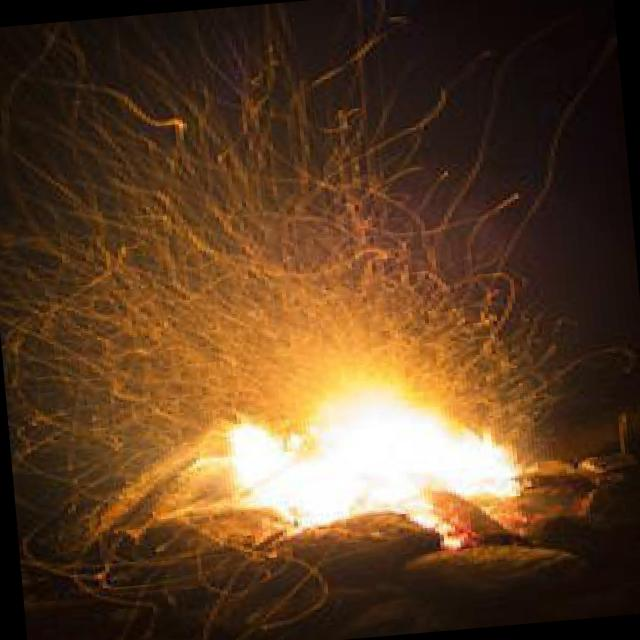Fire: (188, 357, 550, 557)
